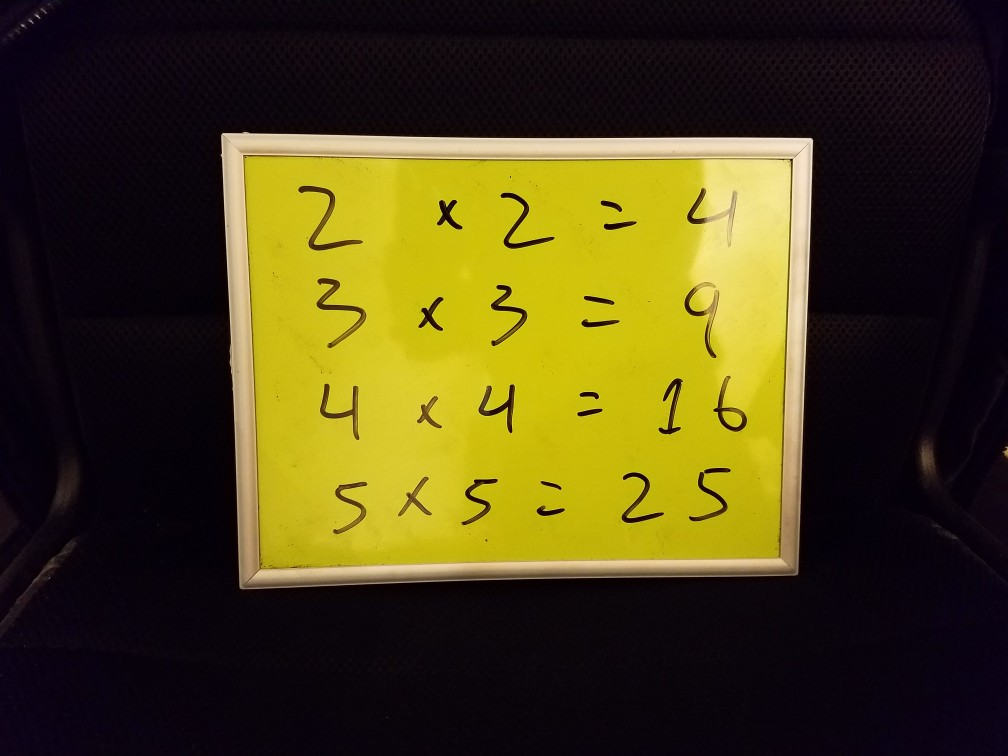1: (654, 369, 689, 444)
2: (288, 181, 368, 256), (493, 187, 557, 254), (615, 466, 668, 527)
3: (306, 270, 374, 353), (483, 275, 532, 352)
4: (680, 180, 744, 251), (312, 374, 369, 445), (475, 379, 524, 438)
5: (686, 462, 741, 529), (324, 473, 374, 540), (454, 473, 501, 535)
6: (709, 370, 756, 439)
9: (677, 276, 729, 362)
=: (589, 191, 645, 240), (527, 474, 575, 526), (574, 286, 627, 333), (571, 381, 607, 426)
x: (392, 468, 435, 528), (411, 287, 447, 338), (406, 387, 444, 434), (430, 191, 464, 235)
